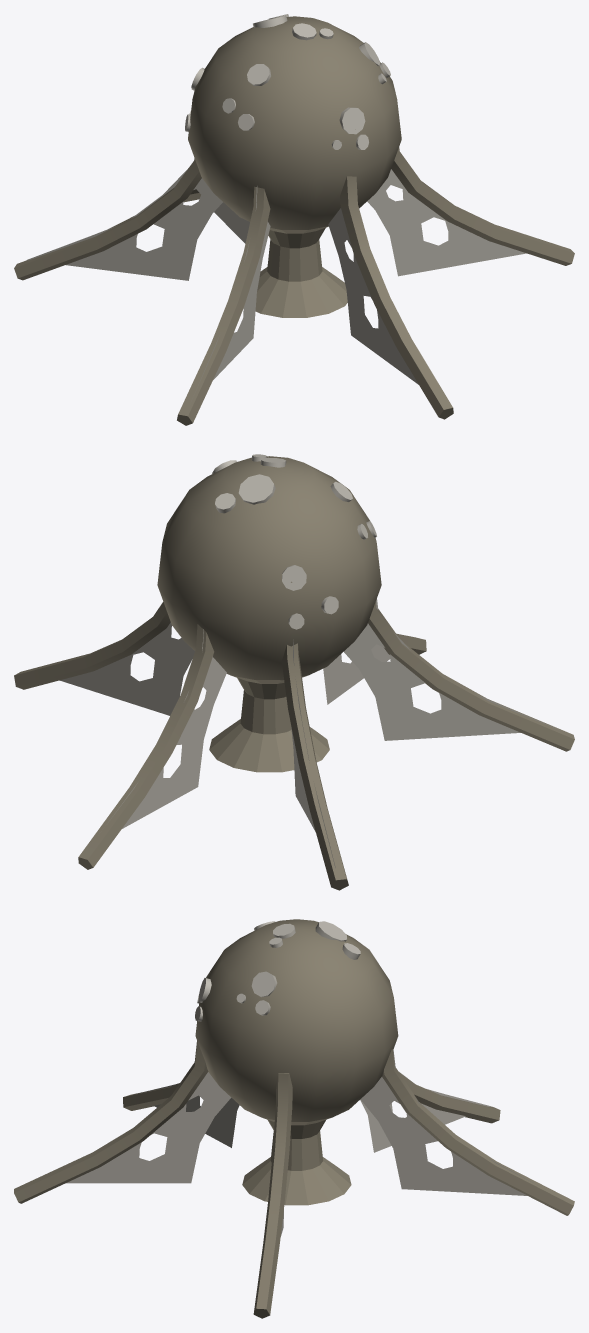
File: Slimeball_Concept.FBX
3 views of the same model, one above another, from view 1: azimuth 30°, elevation 25°; view 2: azimuth 150°, elevation 25°; view 3: azimuth 270°, elevation 25° (orthographic). The views are drawn at different scales.
Parts seen in each view (by area): view 1: Cylinder012; view 2: Cylinder012; view 3: Cylinder012.
Part boxes in pixels (x1,y1,x2,y2): Cylinder012: [14, 14, 574, 425]; Cylinder012: [14, 454, 574, 890]; Cylinder012: [14, 919, 574, 1318].
Bounding box in the file's own units: 67.1 × 40.22 × 74.09.
